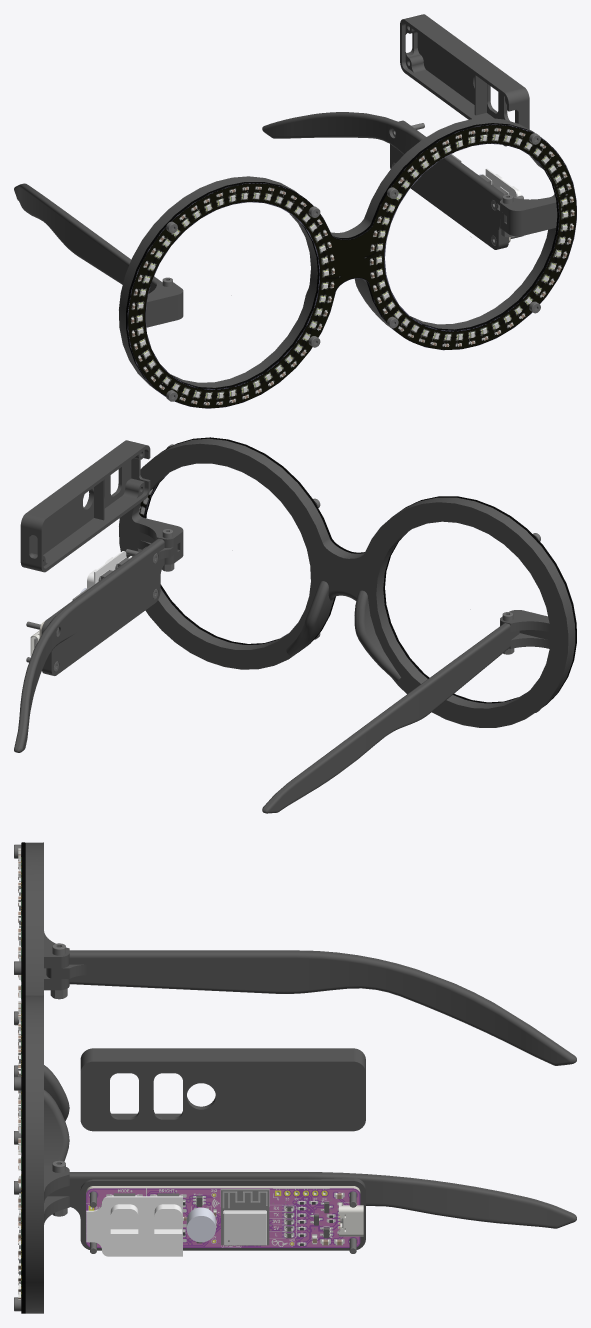
The model's file is lsg_glasses_3d_model_web_ani4.glb.
3 renders of one model, top to bottom at view 1: azimuth 30°, elevation 25°; view 2: azimuth 150°, elevation 25°; view 3: azimuth 270°, elevation 25°, orthographic. The views are drawn at different scales.
Parts seen in each view (by area): view 1: Body1.048, Mainframe, Right_Temple_Fast_Display, LogicPCB_Cover, Left_Temple; view 2: Mainframe, Right_Temple_Fast_Display, LogicPCB_Cover, Left_Temple, Body1.048; view 3: LogicPCB_Cover, Left_Temple, Mainframe, Right_Temple_Fast_Display, Body1.011, Button_Membrane, Body1.048, Body12, Body25, StatusLED_Diffuser.
Boxes of the visible parts, x1,y1,x2,y2 form: Body1.048: [126, 123, 576, 408]; Mainframe: [119, 118, 557, 388]; Right_Temple_Fast_Display: [262, 112, 508, 249]; LogicPCB_Cover: [400, 14, 529, 146]; Left_Temple: [14, 183, 161, 293]; Mainframe: [119, 438, 575, 727]; Right_Temple_Fast_Display: [14, 538, 177, 752]; LogicPCB_Cover: [20, 440, 150, 572]; Left_Temple: [262, 623, 519, 813]; Body1.048: [138, 437, 576, 705]; LogicPCB_Cover: [80, 1048, 365, 1131]; Left_Temple: [46, 950, 576, 1065]; Mainframe: [25, 842, 69, 1313]; Right_Temple_Fast_Display: [48, 1172, 576, 1250]; Body1.011: [86, 1186, 360, 1247]; Button_Membrane: [86, 1196, 182, 1256]; Body1.048: [21, 842, 25, 1313]; Body12: [223, 1210, 266, 1245]; Body25: [221, 1189, 269, 1245]; StatusLED_Diffuser: [186, 1207, 215, 1242].
Bounding box in the file's own units: 0.186 × 0.087 × 0.1539.
36 materials, 4 textured.
